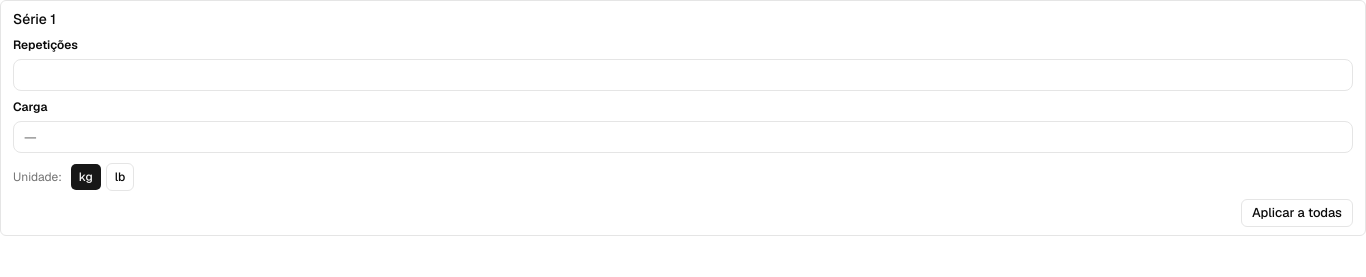
Test: SeriesCard › validações de inteiro (repetições e tempo) › repetições inválidas ('abc') mostram 'Use um número inteiro maior ou igual a zero para repetições.' e não commitam
The image size is (1366, 277).
In the field labelled "Repetições": (683,75) [13,59,1353,91], type "abc"
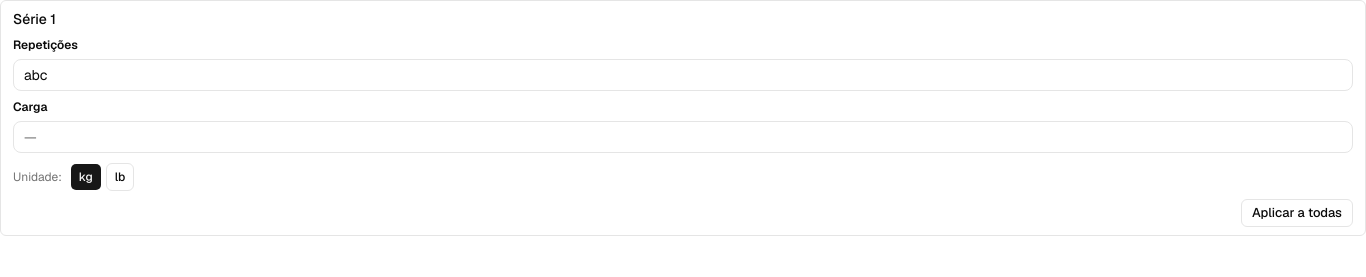
Leave the field labelled "Repetições", box [13,59,1353,91]
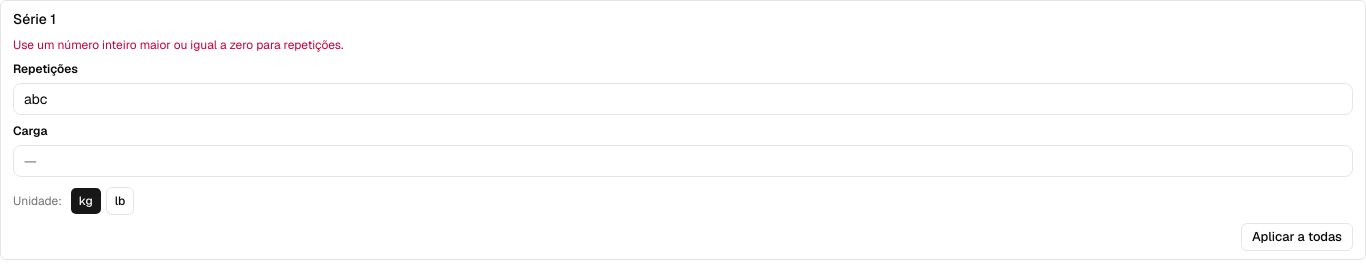
Expected: the text "Use um número inteiro maior ou igual a zero para repetições." is shown, [13,37,343,53]
